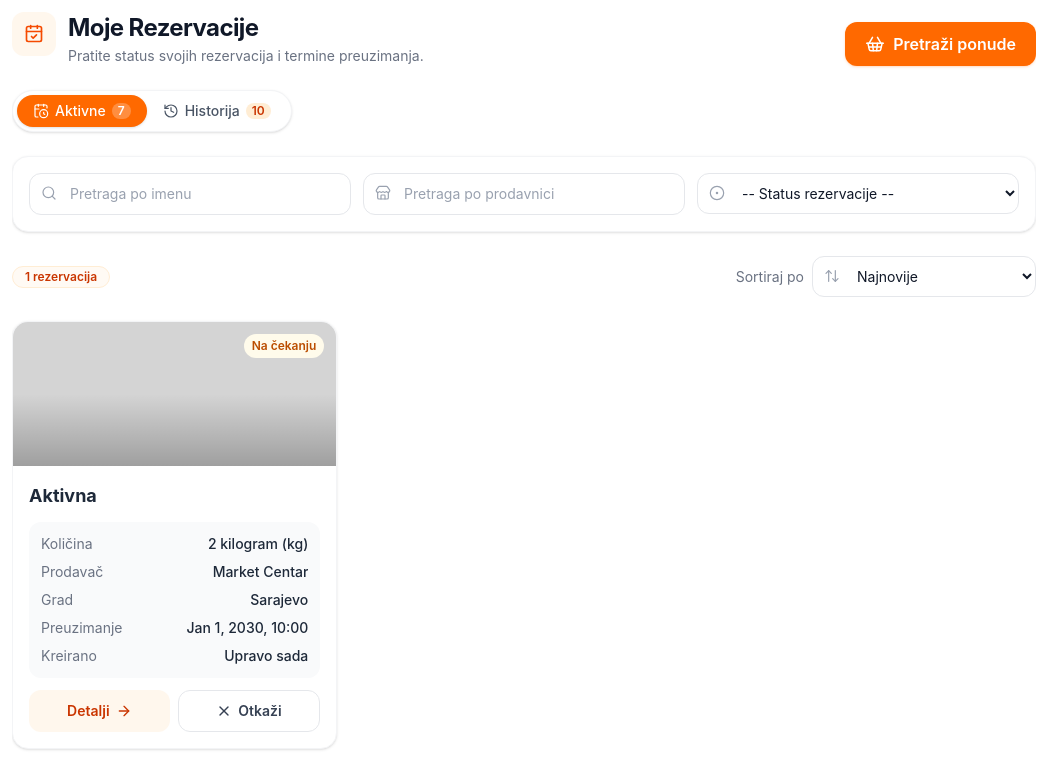
Scenario: MyReservationsPage › History › loads every status newest first, 20 at a time, as rows grouped by day
Expected: the heading "Aktivna" is shown, [29,485,97,506]
Click the tab "Historija 10" at (217,111), box [147,95,287,127]
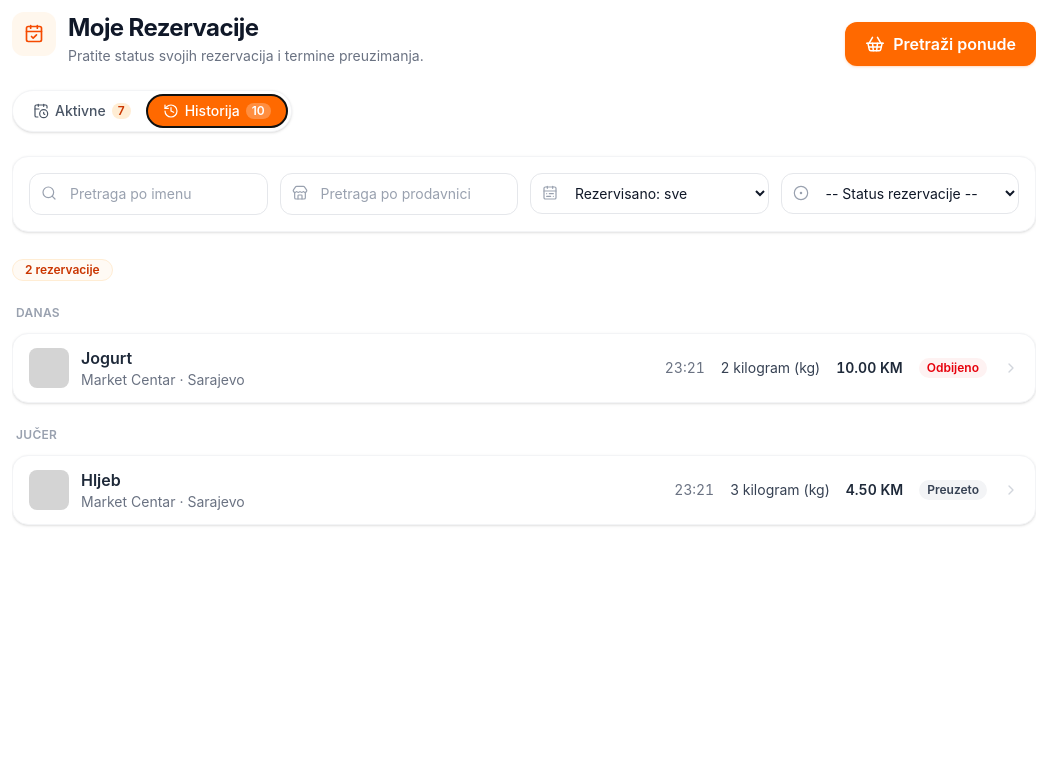
Now the text "Jogurt" is shown, box [81,348,132,368]
Now the heading "Danas" is shown, box [16,305,60,320]
Now the heading "Jučer" is shown, box [16,427,57,442]
